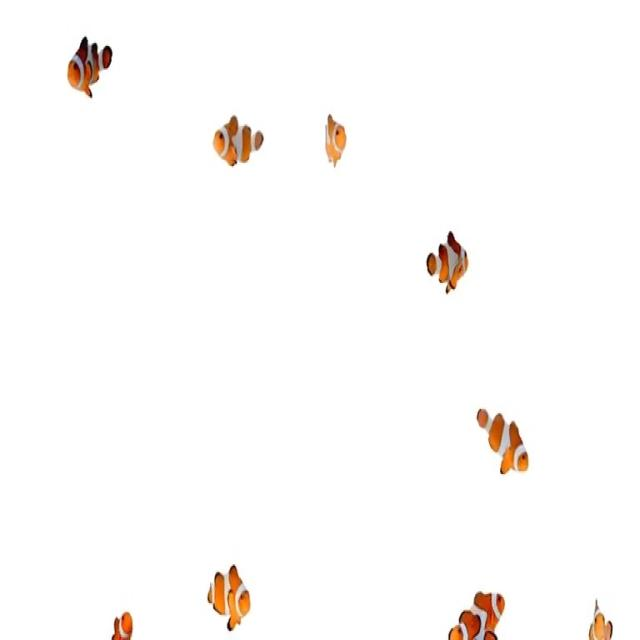fish: (475, 405, 531, 475), (423, 225, 471, 296), (211, 113, 267, 170), (206, 562, 256, 625), (448, 584, 506, 638), (64, 38, 114, 95), (324, 112, 349, 172), (587, 596, 613, 639), (108, 607, 136, 640)
